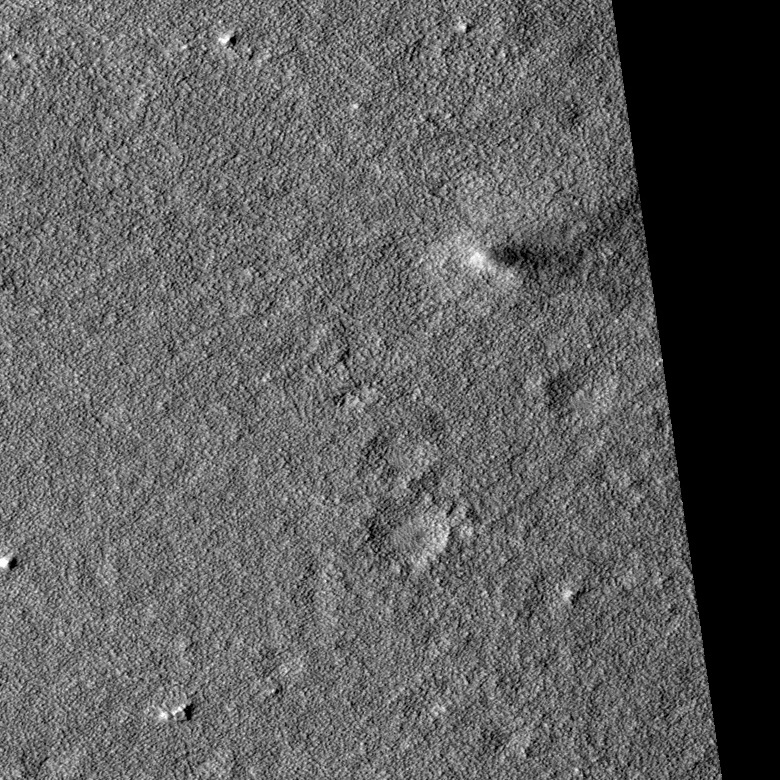dust_devil: (464, 238, 587, 283)
